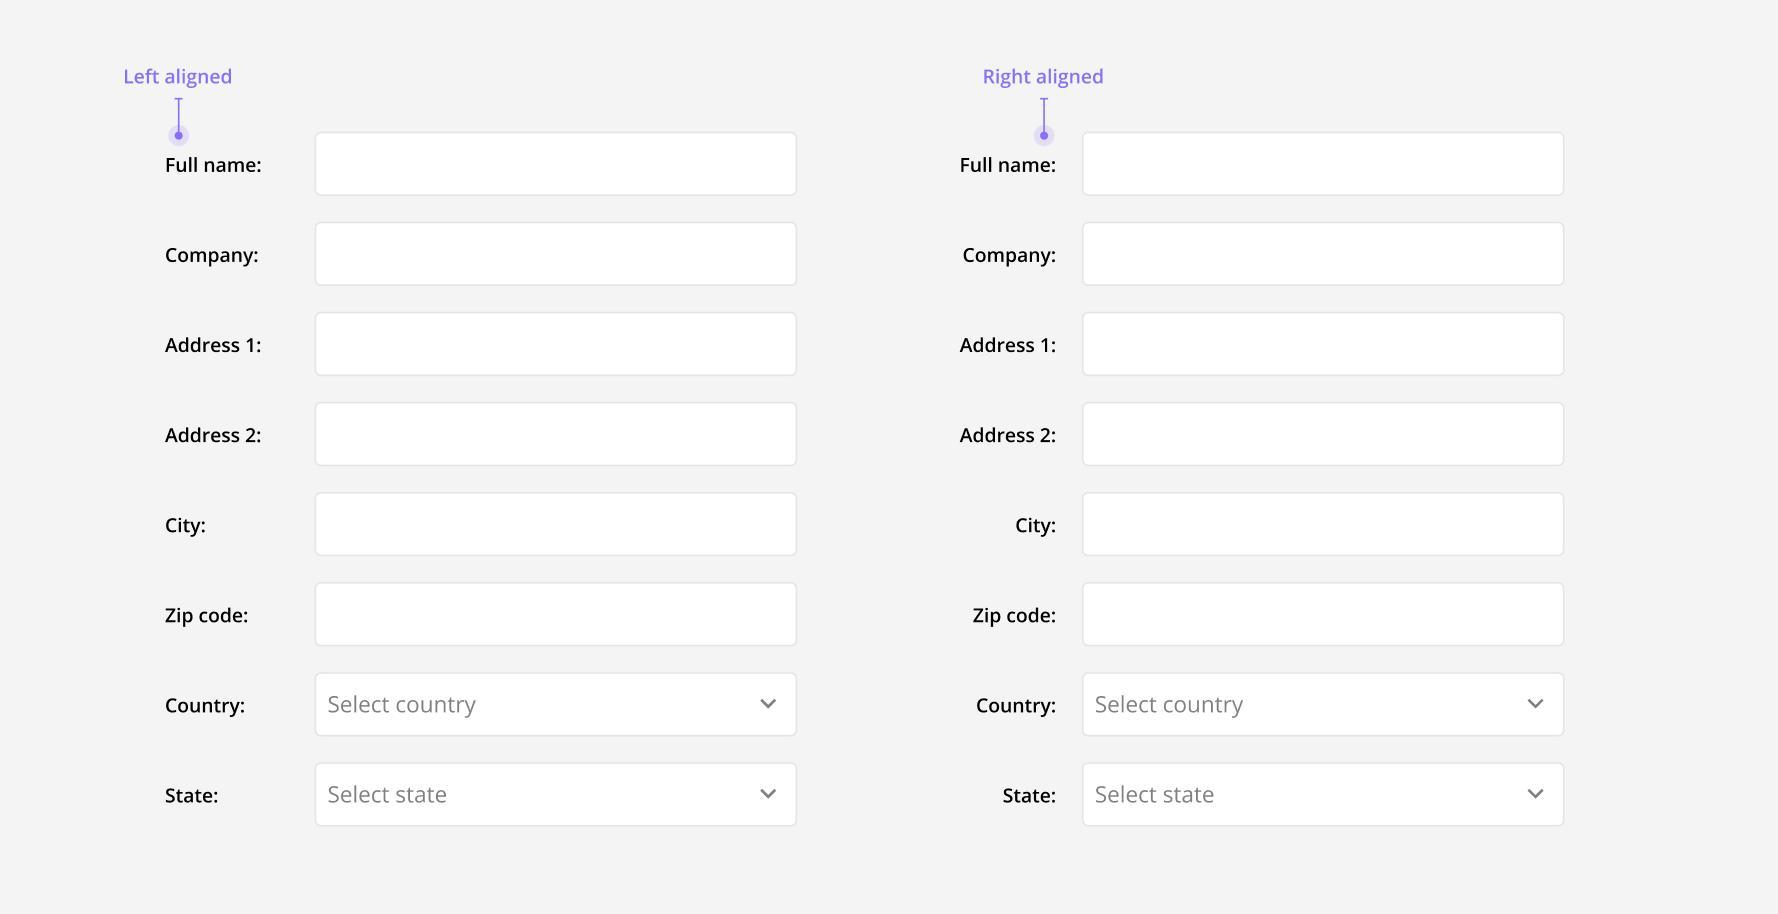dropdown: (1084, 757, 1566, 832), (1082, 669, 1569, 740), (313, 761, 798, 832), (313, 670, 800, 740)
input: (311, 129, 803, 203), (312, 219, 796, 294), (1081, 400, 1566, 473), (312, 309, 799, 381), (312, 487, 799, 560), (1079, 129, 1568, 201), (1080, 312, 1569, 384), (312, 400, 800, 470), (313, 581, 800, 649), (1080, 577, 1566, 645), (1082, 224, 1566, 291), (1080, 494, 1569, 558)
label: (160, 147, 268, 180), (160, 240, 263, 274), (966, 599, 1060, 633), (957, 153, 1061, 181), (165, 426, 264, 454), (164, 333, 269, 359), (161, 602, 253, 631), (161, 692, 254, 720), (962, 242, 1059, 268), (957, 426, 1063, 448), (160, 779, 228, 811), (976, 695, 1059, 722), (955, 337, 1060, 358), (1000, 785, 1059, 813), (158, 514, 210, 540), (1013, 512, 1058, 540)
